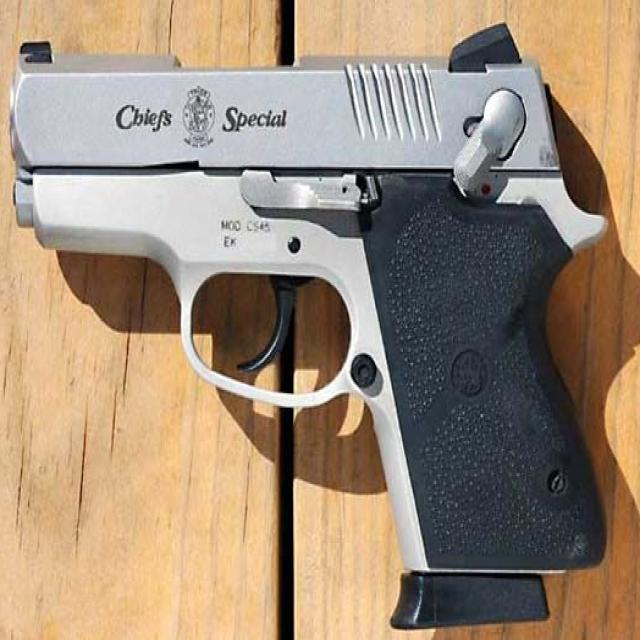Weapon: (10, 25, 606, 626)
